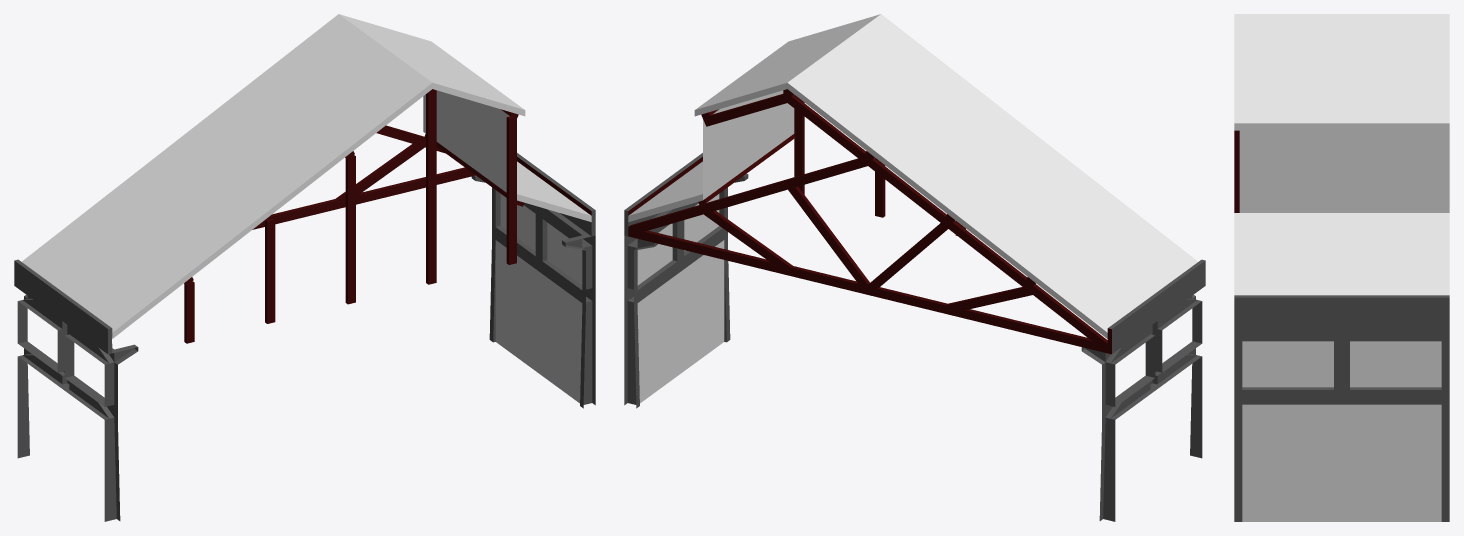
File: SM_Factory_D.fbx
The picture shows the model from 3 angles, left to right: view 1: azimuth 30°, elevation 25°; view 2: azimuth 150°, elevation 25°; view 3: azimuth 270°, elevation 25°; orthographic projection. The views are drawn at different scales.
Visible parts, largest first — view 1: Factory_Frame_D, Factory_PillarsAndBeams_D; view 2: Factory_Frame_D, Factory_PillarsAndBeams_D; view 3: Factory_Frame_D, Factory_PillarsAndBeams_D.
Part boxes in pixels (left/top/right/bottom): Factory_Frame_D: left=14, top=14, right=595, bottom=354; Factory_PillarsAndBeams_D: left=17, top=175, right=595, bottom=521; Factory_Frame_D: left=624, top=14, right=1205, bottom=354; Factory_PillarsAndBeams_D: left=624, top=173, right=1202, bottom=521; Factory_Frame_D: left=1234, top=14, right=1449, bottom=326; Factory_PillarsAndBeams_D: left=1234, top=326, right=1449, bottom=521.
Bounding box in the file's own units: 12 × 4 × 8.53.
